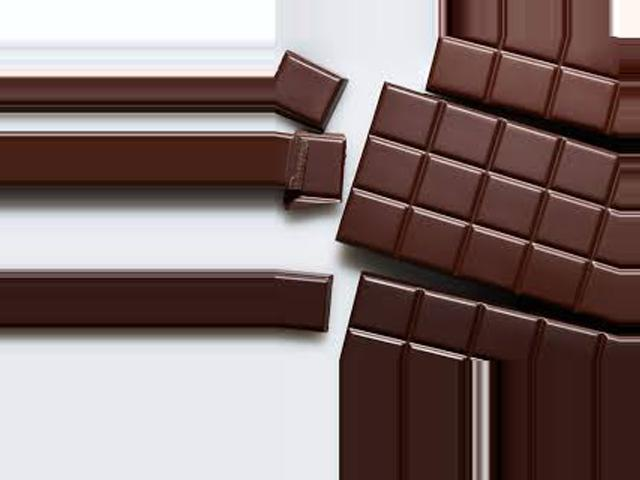chocolate: (339, 76, 621, 314)
